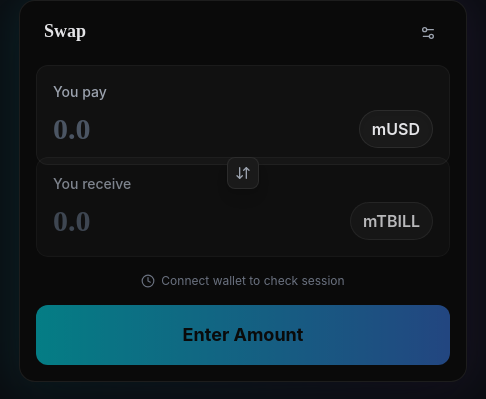
SwapWidget › shows "Connect Wallet & Swap" when amount entered but no wallet
The width and height of the screenshot is (486, 399).
Type "100" into the number field with placeholder "0.0".
click(206, 129); type("100")  # box [53,111,359,147]
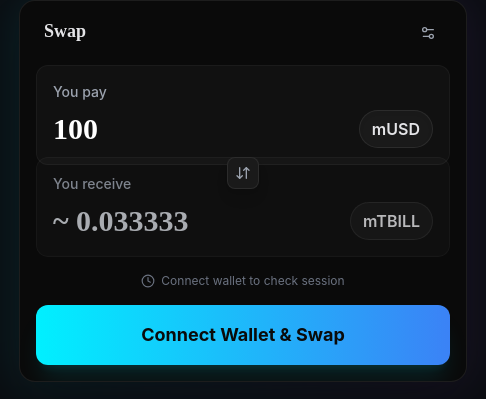
Expected: the text "Connect Wallet & Swap" is shown, [141,324,345,345]
